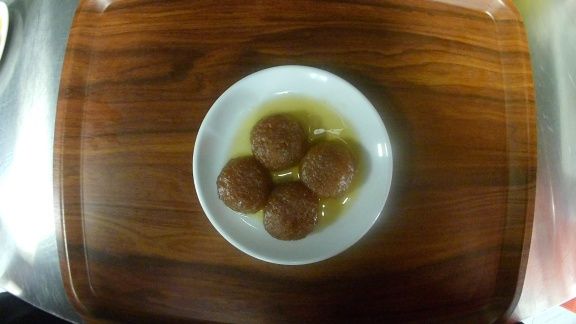kemalpasa: (194, 64, 394, 265)
